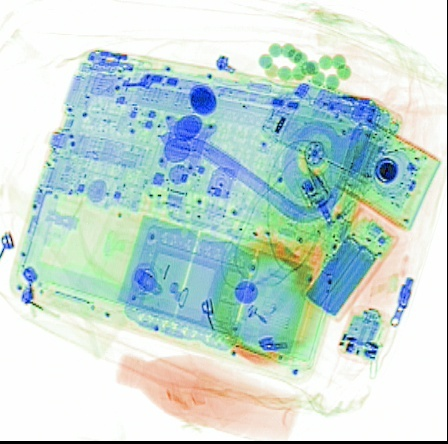powerbank: (300, 214, 397, 322)
